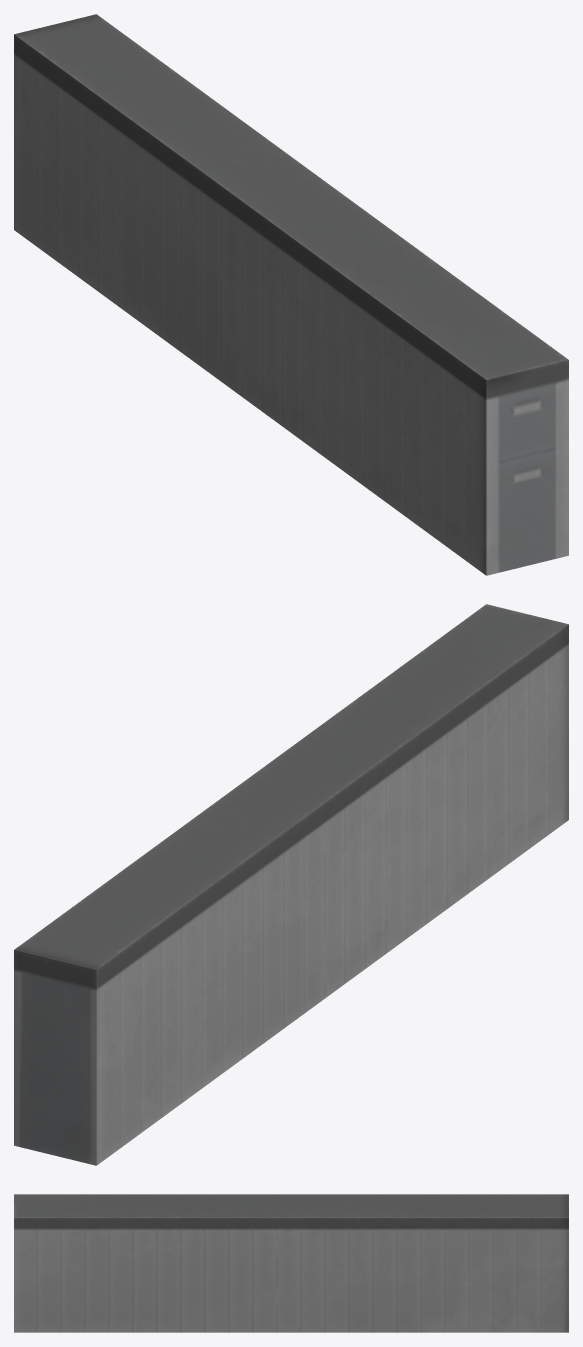
The model's file is Pfb_Shop_Counter__3.fbx.
The picture shows the model from 3 angles, top to bottom: view 1: azimuth 30°, elevation 25°; view 2: azimuth 150°, elevation 25°; view 3: azimuth 270°, elevation 25°; orthographic projection. The views are drawn at different scales.
Parts seen in each view (by area): view 1: Mat_Shop_Counter_01_1; view 2: Mat_Shop_Counter_01_1; view 3: Mat_Shop_Counter_01_1.
Part boxes in pixels (<box>): Mat_Shop_Counter_01_1: <box>14,14,568,575</box>; Mat_Shop_Counter_01_1: <box>14,604,568,1165</box>; Mat_Shop_Counter_01_1: <box>14,1194,568,1332</box>.
Size of the model in its own units: 0.357 by 0.8087 by 3.54.
Materials: 1 (1 with a texture image).
